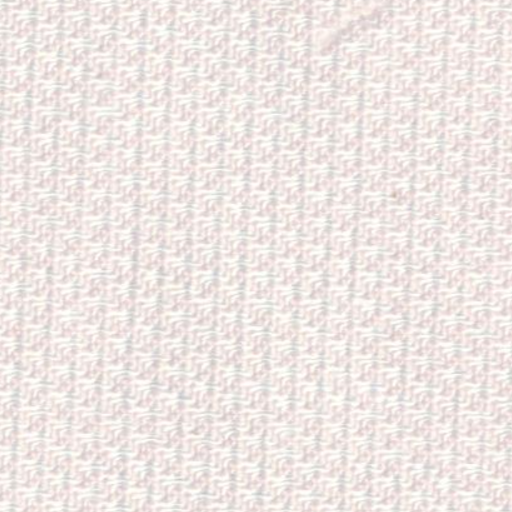DuanSha: (306, 4, 388, 59)
